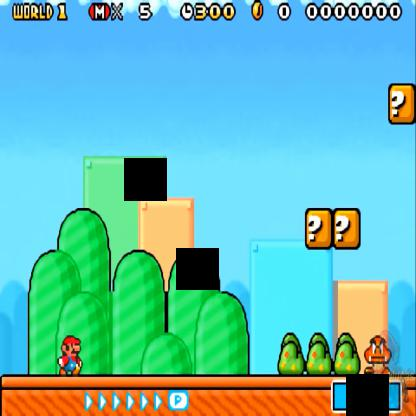Goomba: (360, 329, 392, 375)
Mario: (55, 330, 85, 373)
moneda: (251, 1, 265, 30)
